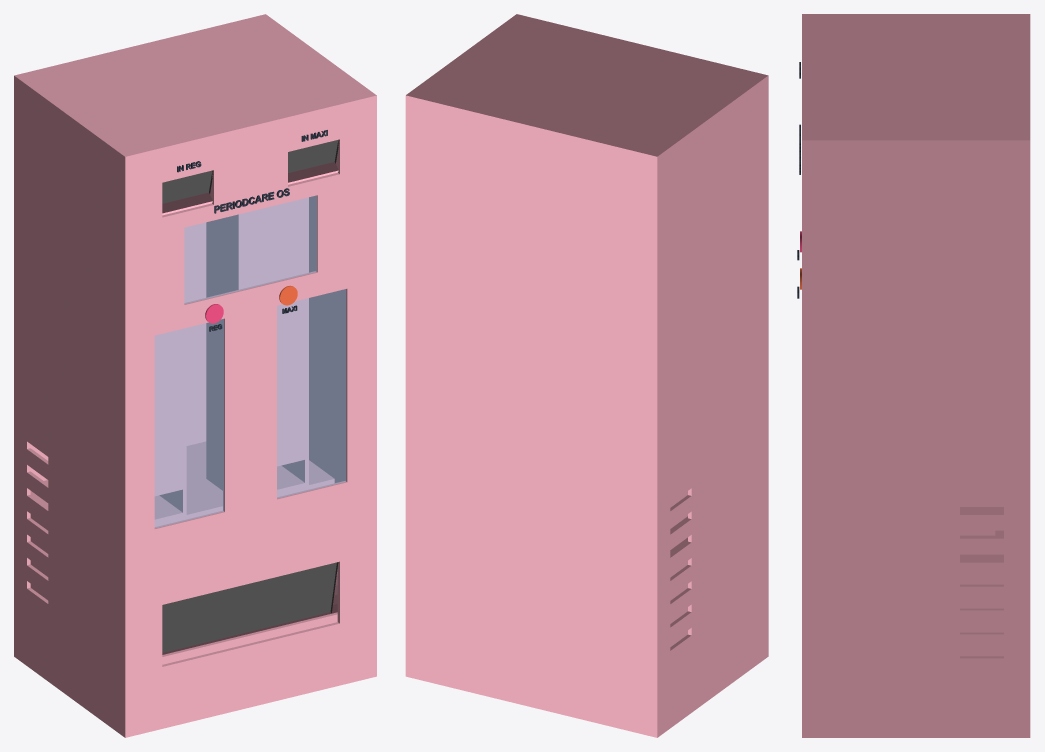
The model's file is periodcare.glb.
3 views of the same model, side by side, from view 1: azimuth 30°, elevation 25°; view 2: azimuth 150°, elevation 25°; view 3: azimuth 270°, elevation 25° (orthographic). The views are drawn at different scales.
Parts seen in each view (by area): view 1: Node1 (×4); view 2: Node1; view 3: Node1.
Boxes of the visible parts, left/top/right/bottom form: Node1 (×4): left=14, top=14, right=376, bottom=737; Node1: left=405, top=14, right=768, bottom=737; Node1: left=802, top=14, right=1030, bottom=737.
Size of the model in its own units: 340 by 750 by 265.
